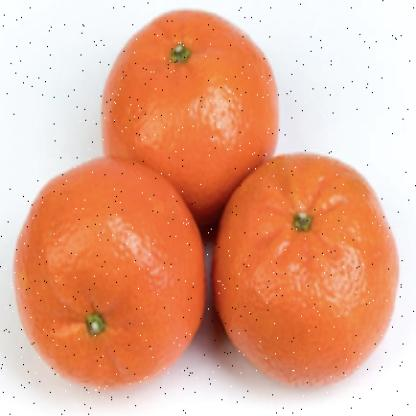fresh: (16, 10, 401, 389)
